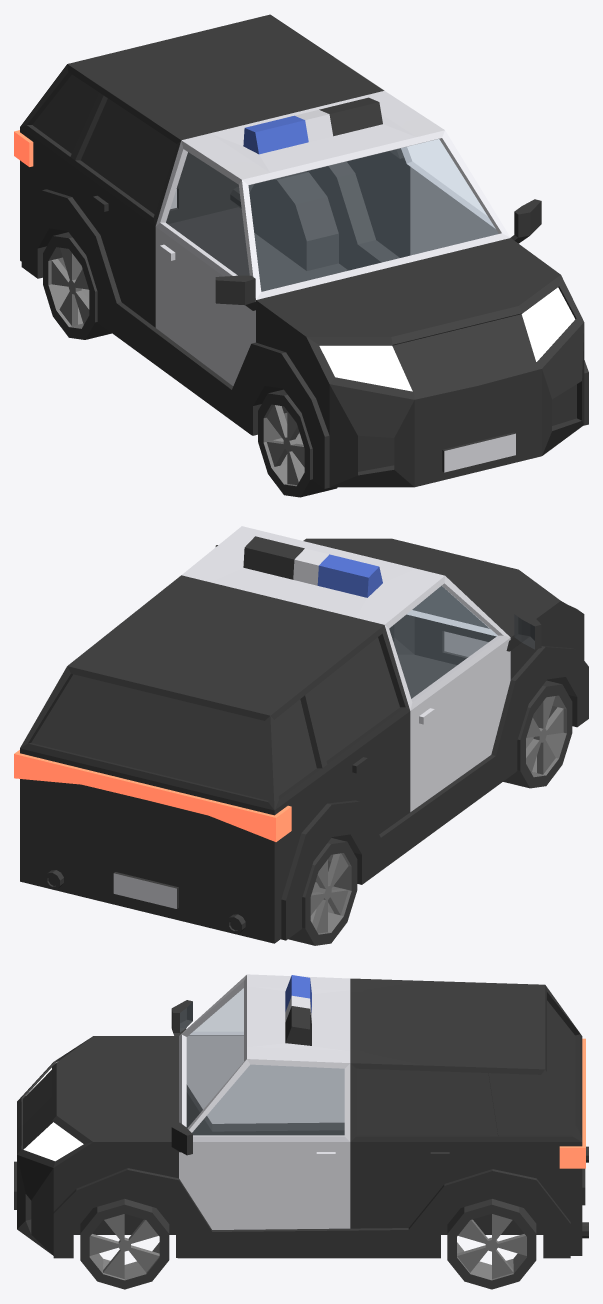
The model's file is police_suv.glb.
3 views of the same model, one above another, from view 1: azimuth 30°, elevation 25°; view 2: azimuth 150°, elevation 25°; view 3: azimuth 270°, elevation 25° (orthographic). The views are drawn at different scales.
Parts seen in each view (by area): view 1: Police SUV, Police SUV wheel front right, Police SUV wheel rear right; view 2: Police SUV, Police SUV wheel rear right, Police SUV wheel front right; view 3: Police SUV, Police SUV wheel front left, Police SUV wheel rear left.
Part boxes in pixels (bbox=[...]): Police SUV: bbox=[14, 14, 588, 488]; Police SUV wheel front right: bbox=[258, 389, 337, 497]; Police SUV wheel rear right: bbox=[43, 232, 111, 339]; Police SUV: bbox=[14, 526, 588, 943]; Police SUV wheel rear right: bbox=[288, 838, 357, 945]; Police SUV wheel front right: bbox=[503, 680, 572, 788]; Police SUV: bbox=[14, 974, 588, 1258]; Police SUV wheel front left: bbox=[80, 1199, 169, 1289]; Police SUV wheel rear left: bbox=[447, 1199, 536, 1289].
Bounding box in the file's own units: 2.81 × 2.26 × 5.04.
